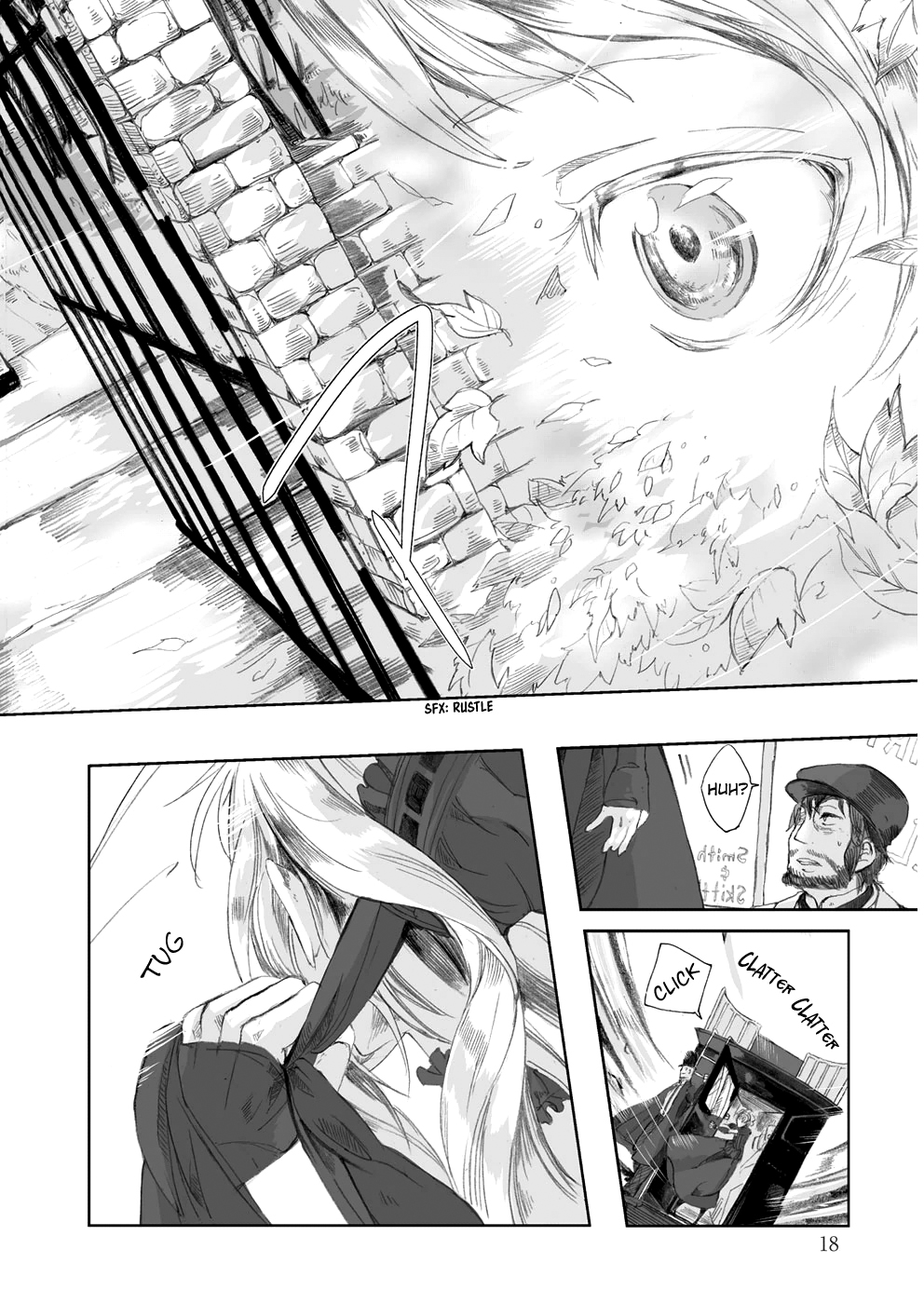bubble: (699, 744, 760, 832), (643, 944, 712, 1020)
